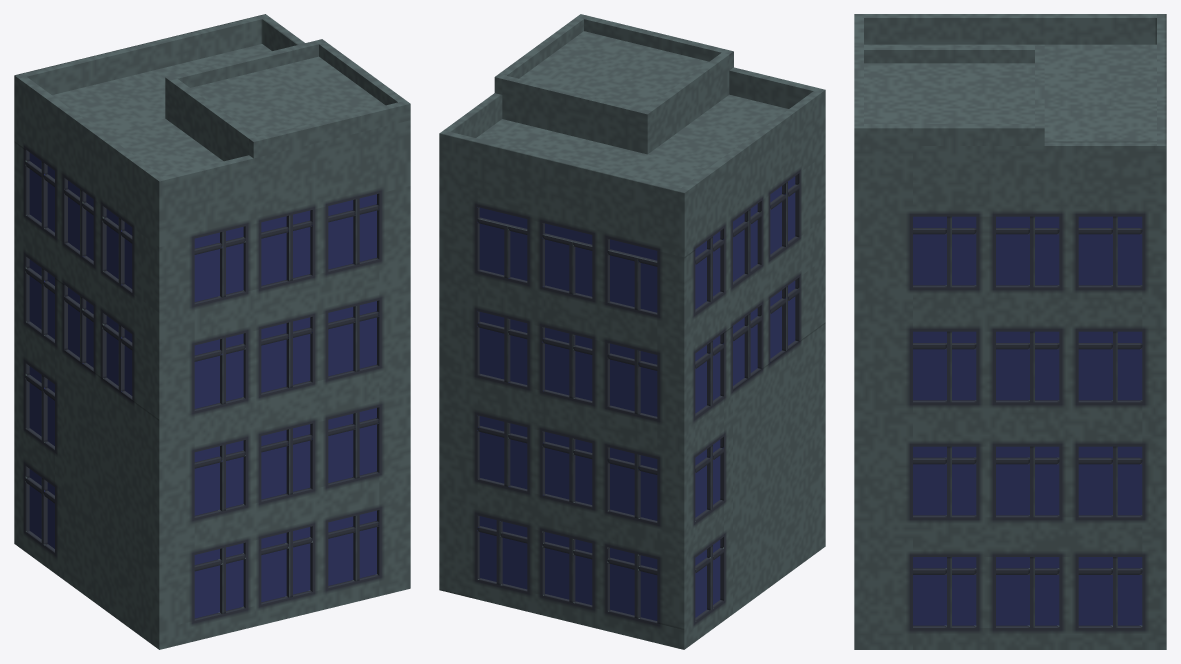
3 views of the same model, side by side, from view 1: azimuth 30°, elevation 25°; view 2: azimuth 150°, elevation 25°; view 3: azimuth 270°, elevation 25° (orthographic). The views are drawn at different scales.
Parts seen in each view (by area): view 1: Content; view 2: Content; view 3: Content.
Boxes of the visible parts, left/top/right/bottom form: Content: left=14, top=14, right=410, bottom=649; Content: left=439, top=14, right=825, bottom=649; Content: left=854, top=14, right=1166, bottom=649.
Bounding box in the file's own units: 64 × 118 × 64.
Materials: 1 (1 with a texture image).
